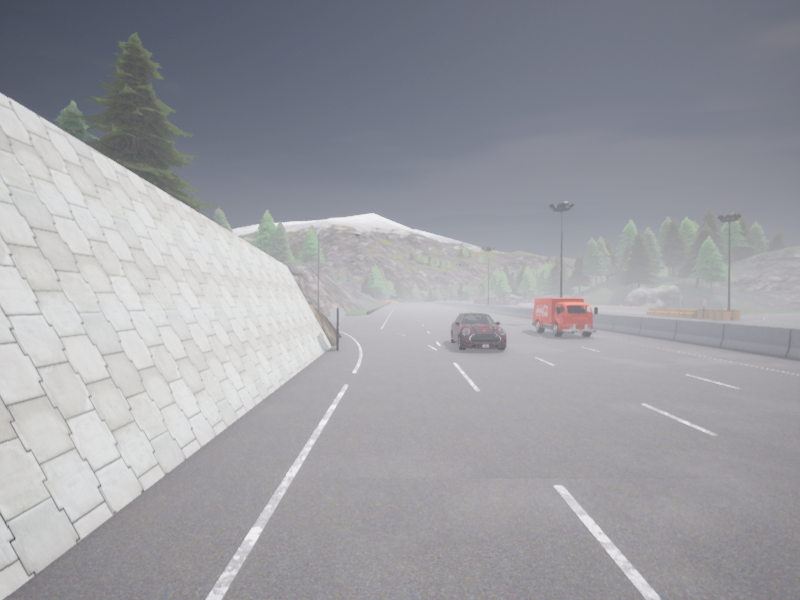vehicle: (532, 297, 597, 336), (450, 312, 506, 349), (467, 300, 468, 302)
